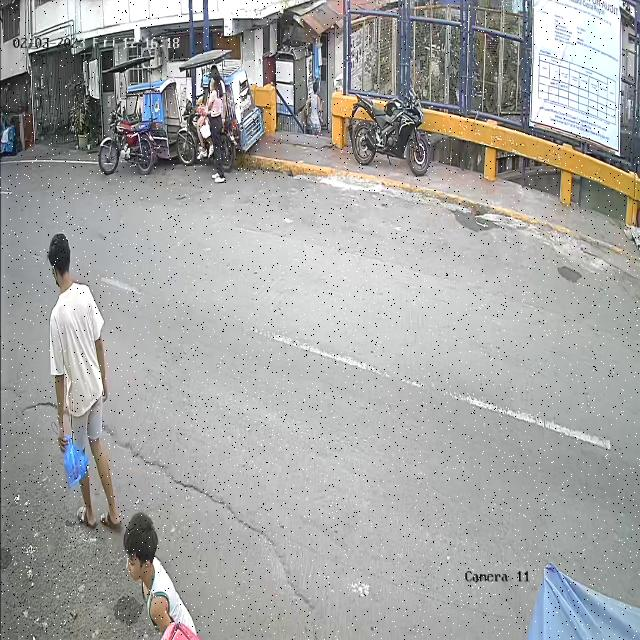garbage_dumping: (54, 426, 88, 489)
